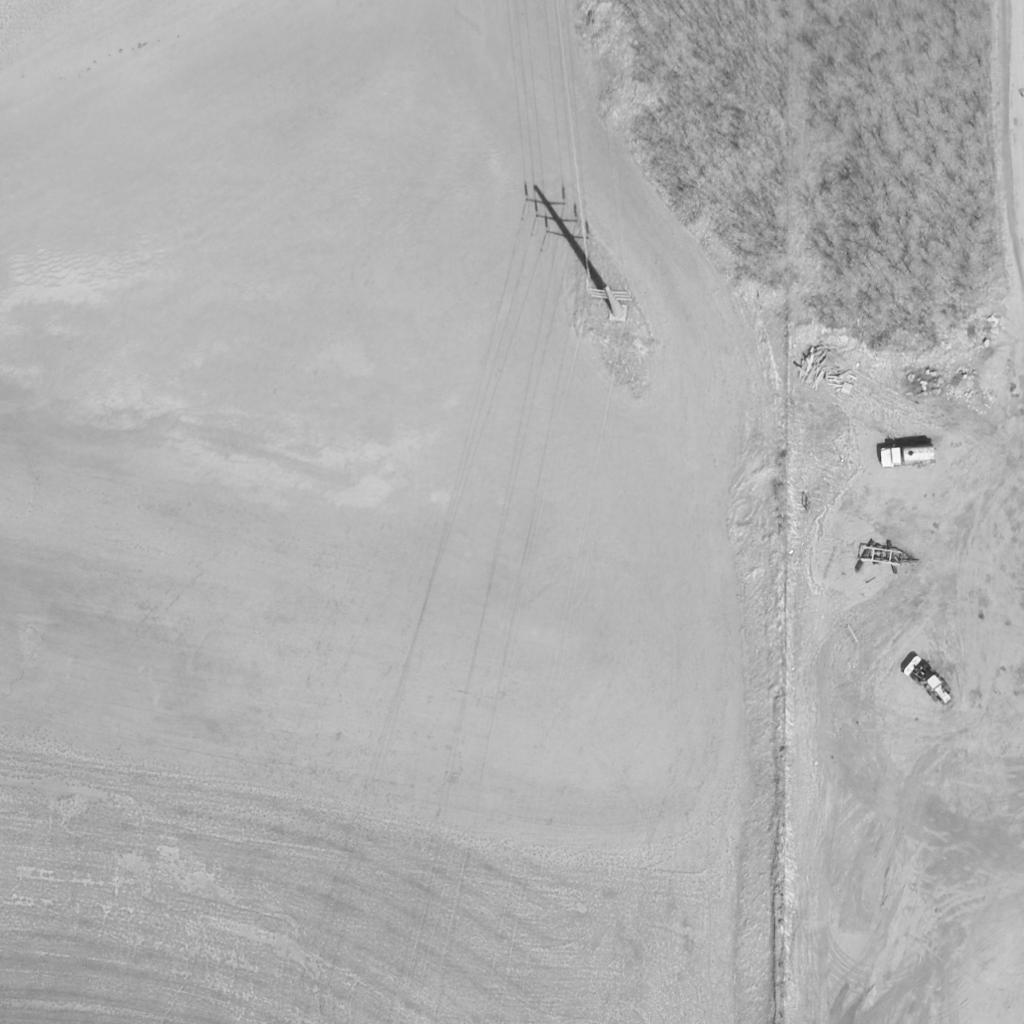vehicle: (902, 656, 958, 710), (879, 445, 939, 469)
